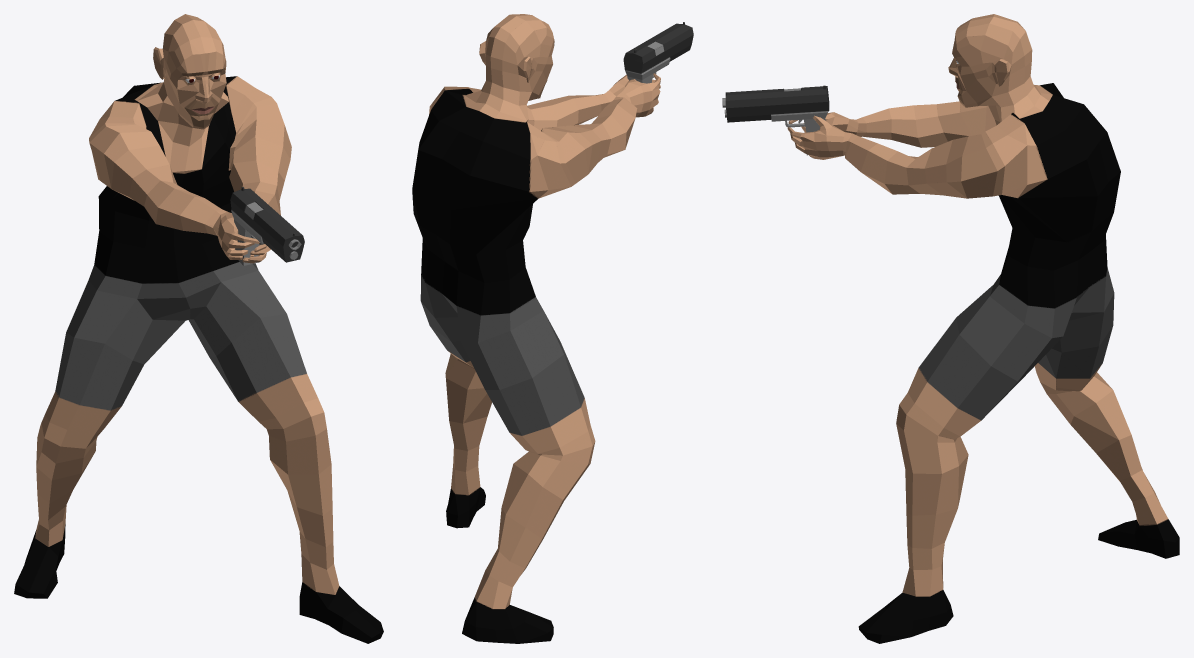
The model's file is PlayerShoot(5).obj.
The picture shows the model from 3 angles, left to right: view 1: azimuth 30°, elevation 25°; view 2: azimuth 150°, elevation 25°; view 3: azimuth 270°, elevation 25°; orthographic projection. The views are drawn at different scales.
Parts seen in each view (by area): view 1: Plane002, Box003; view 2: Plane002, Box003; view 3: Plane002, Box003.
Part boxes in pixels (box(x1,y1,x2,y2)): Plane002: box(14, 14, 383, 643); Box003: box(230, 187, 304, 265); Plane002: box(412, 14, 660, 643); Box003: box(623, 22, 693, 83); Plane002: box(787, 14, 1179, 643); Box003: box(722, 85, 829, 155).
Size of the model in its own units: 716 by 1666 by 1218.
